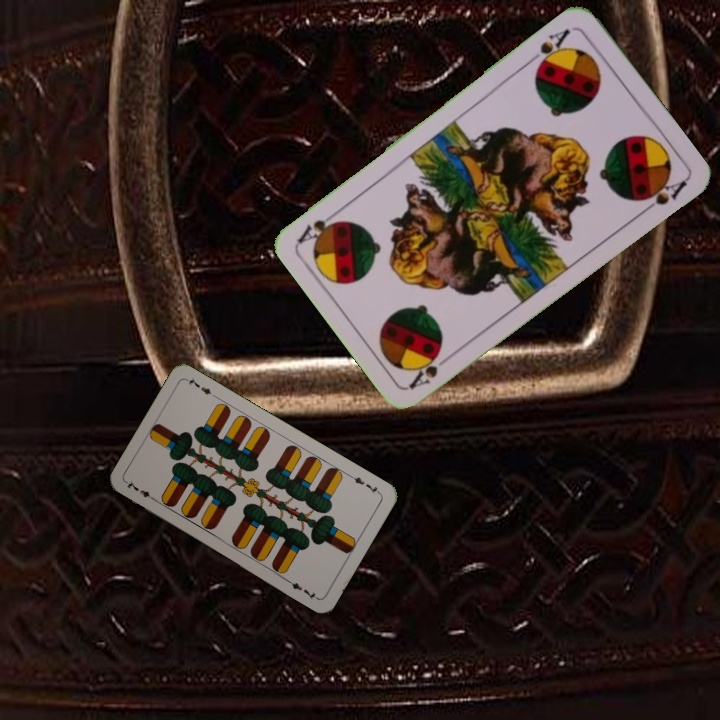E7: (122, 477, 159, 504), (346, 471, 383, 496)
SA: (405, 342, 456, 392), (525, 24, 573, 73)
